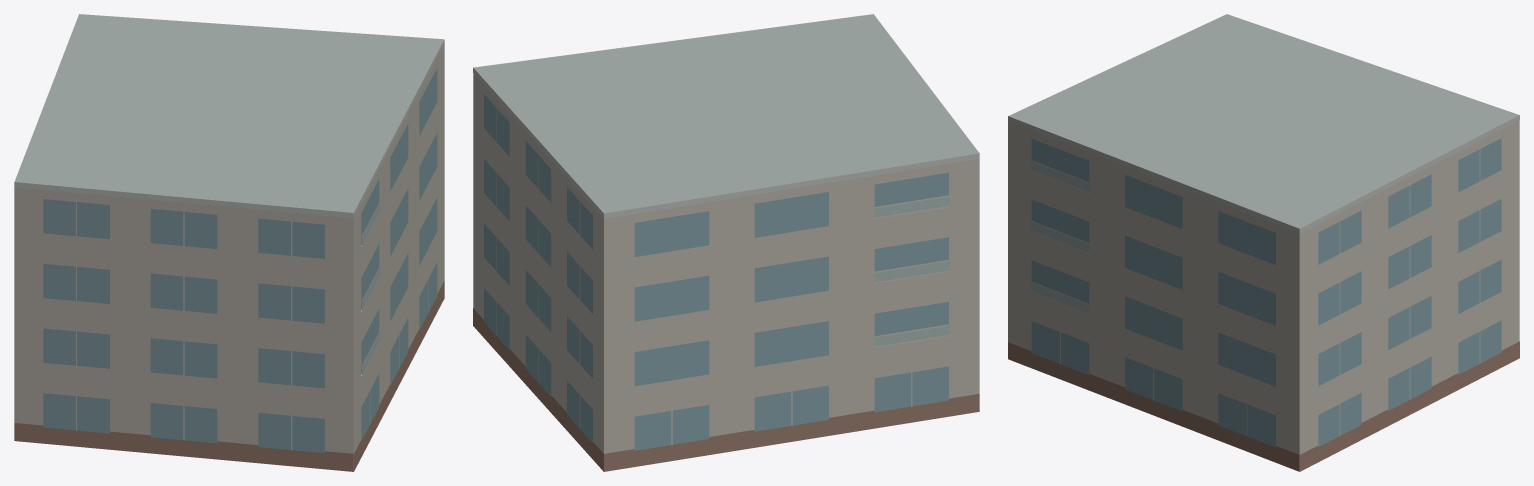
The model's file is survey-upis-32966302.glb.
3 views of the same model, side by side, from view 1: azimuth 30°, elevation 25°; view 2: azimuth 150°, elevation 25°; view 3: azimuth 270°, elevation 25° (orthographic). The views are drawn at different scales.
Parts seen in each view (by area): view 1: survey-upis-32966302.tmp; view 2: survey-upis-32966302.tmp; view 3: survey-upis-32966302.tmp.
Part boxes in pixels (<box>): survey-upis-32966302.tmp: <box>14,14,444,471</box>; survey-upis-32966302.tmp: <box>473,14,979,471</box>; survey-upis-32966302.tmp: <box>1008,14,1519,471</box>.
Bounding box in the file's own units: 22.18 × 11.7 × 22.33.
